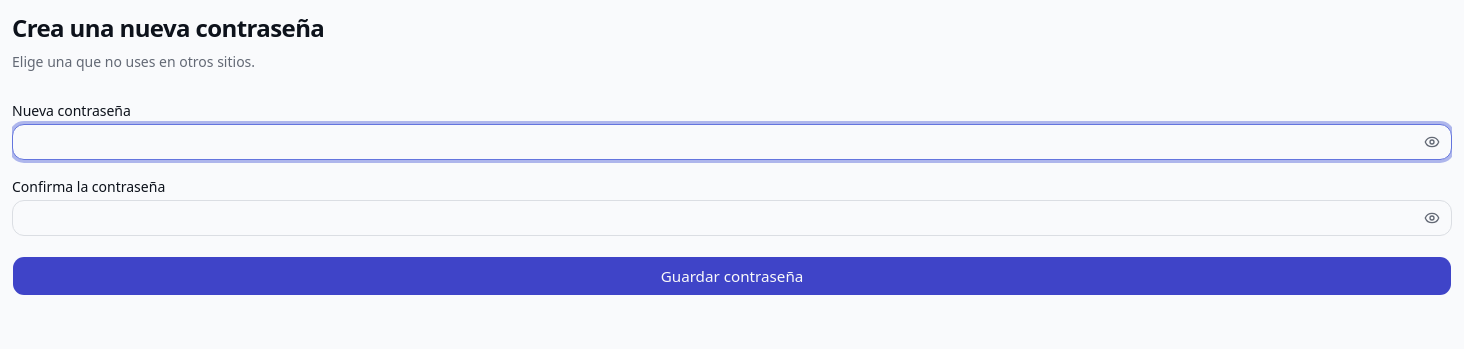
Test case: ResetPasswordPage › turns an expired token into the invalid link screen
This screenshot has width=1464, height=349.
Type "otra frase muy segura" into the password field labelled "Nueva contraseña" at (732, 142), box [12, 124, 1452, 160]
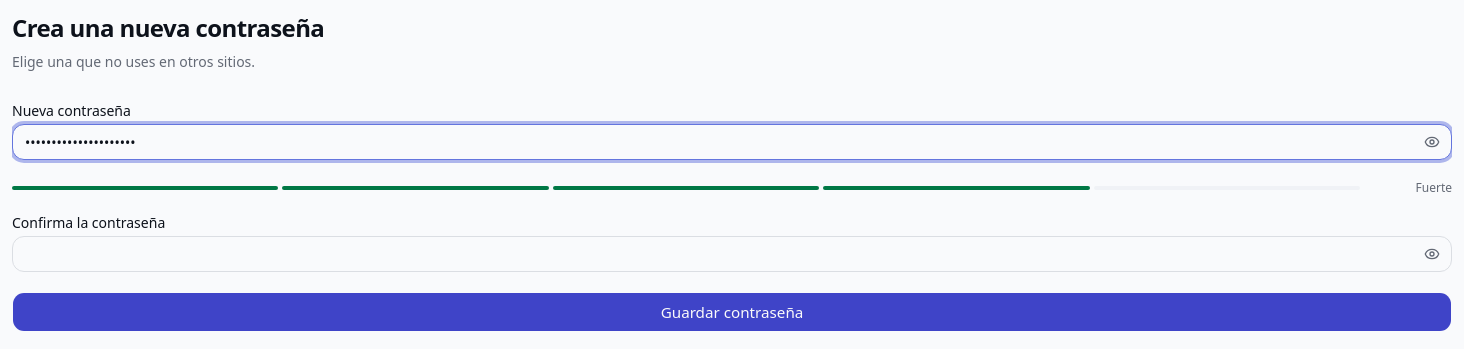
Type "otra frase muy segura" into the password field labelled "Confirma la contraseña" at (732, 254), box [12, 236, 1452, 272]
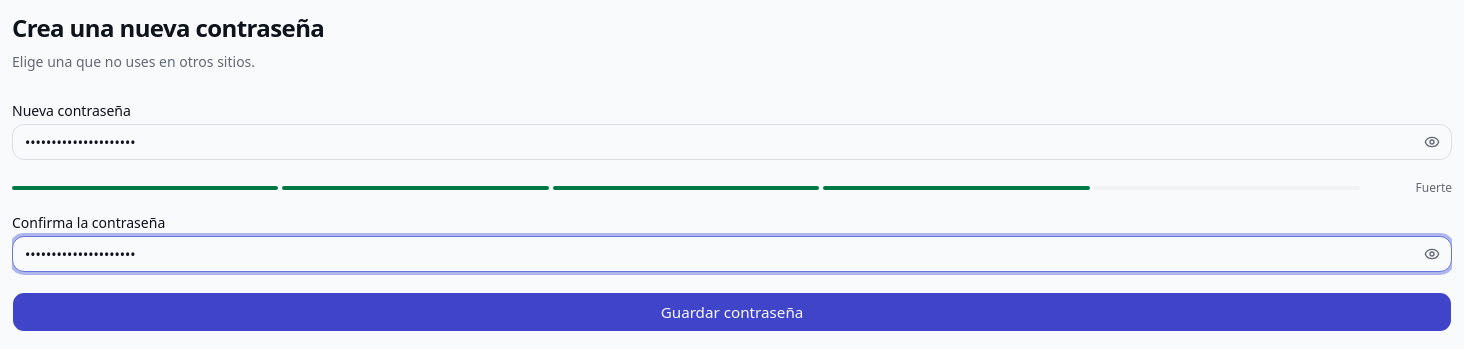
Click the button "Guardar contraseña" at (732, 312), box [12, 292, 1452, 332]
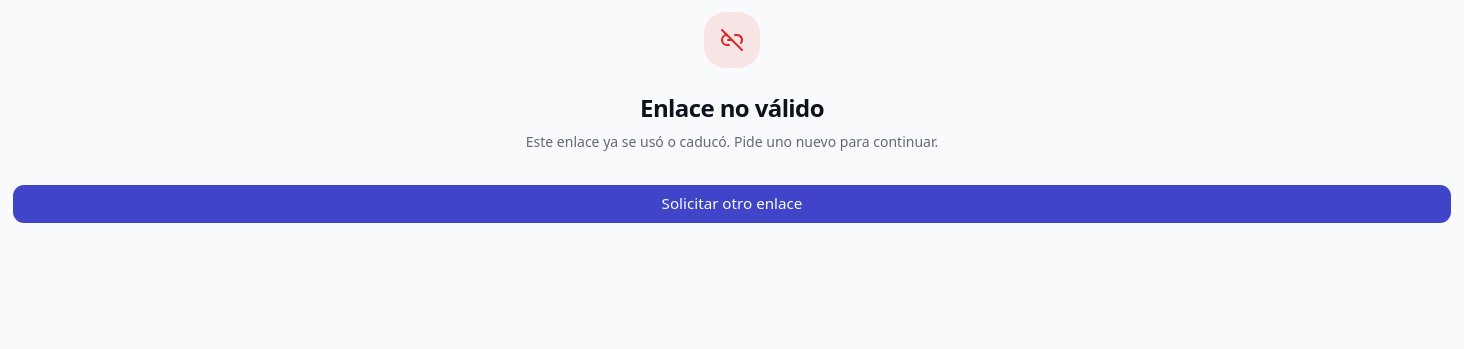
Expected: the heading "Enlace no válido" is shown, [640, 91, 824, 124]
